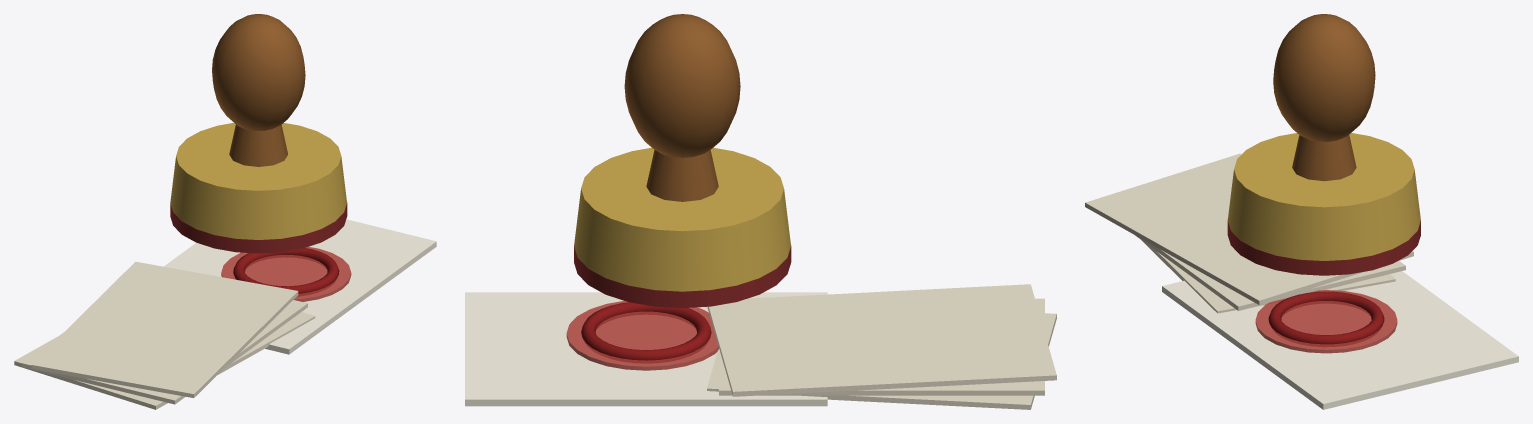
Rendered from rubber_stamp.glb.
3 views of the same model, side by side, from view 1: azimuth 30°, elevation 25°; view 2: azimuth 150°, elevation 25°; view 3: azimuth 270°, elevation 25° (orthographic). The views are drawn at different scales.
Size of the model in its own units: 1.74 by 1.02 by 1.34.
